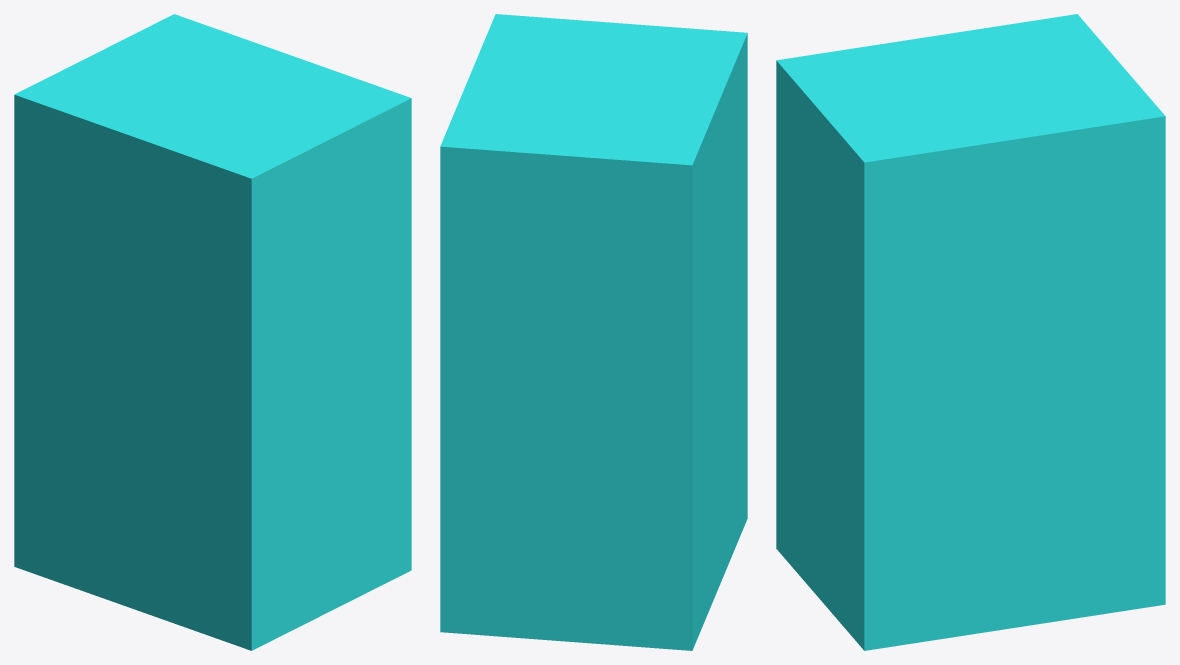
3 renders of one model, left to right at view 1: azimuth 30°, elevation 25°; view 2: azimuth 150°, elevation 25°; view 3: azimuth 270°, elevation 25°, orthographic. The views are drawn at different scales.
Visible parts, largest first — view 1: 1038; view 2: 1038; view 3: 1038.
Part boxes in pixels (left/top/right/bottom): 1038: left=14, top=14, right=411, bottom=650; 1038: left=440, top=14, right=747, bottom=650; 1038: left=776, top=14, right=1165, bottom=650.
Bounding box in the file's own units: 3.92 × 6 × 4.33.
